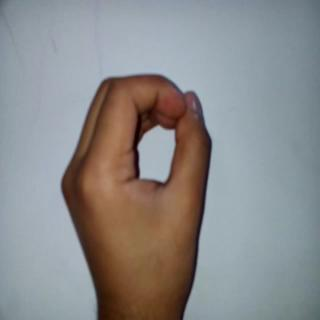O: (54, 58, 226, 313)
